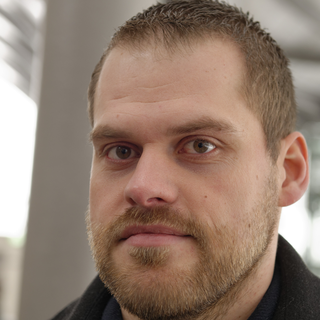eye: (178, 133, 228, 160), (97, 138, 142, 164)
